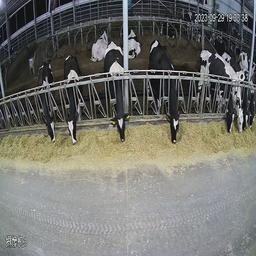cow: (148, 38, 183, 144), (200, 47, 233, 131), (105, 44, 131, 142), (63, 54, 80, 143), (39, 60, 55, 144), (88, 22, 109, 61), (128, 27, 141, 63), (162, 21, 182, 42)
